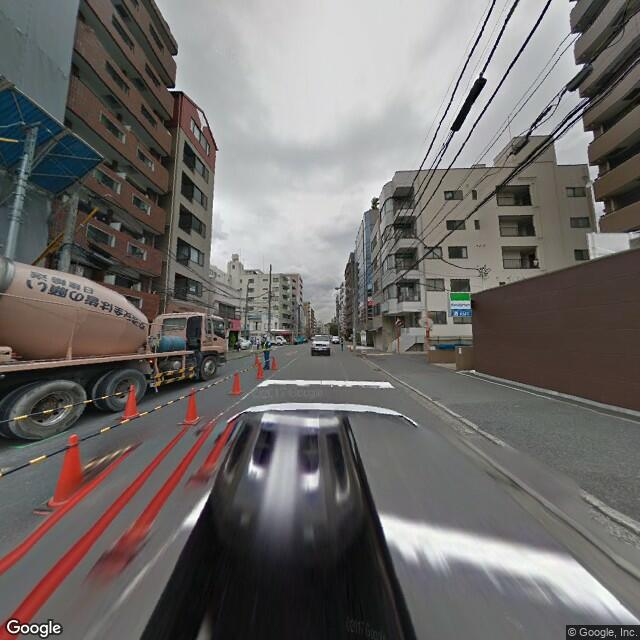family_mart: (449, 290, 471, 316)
